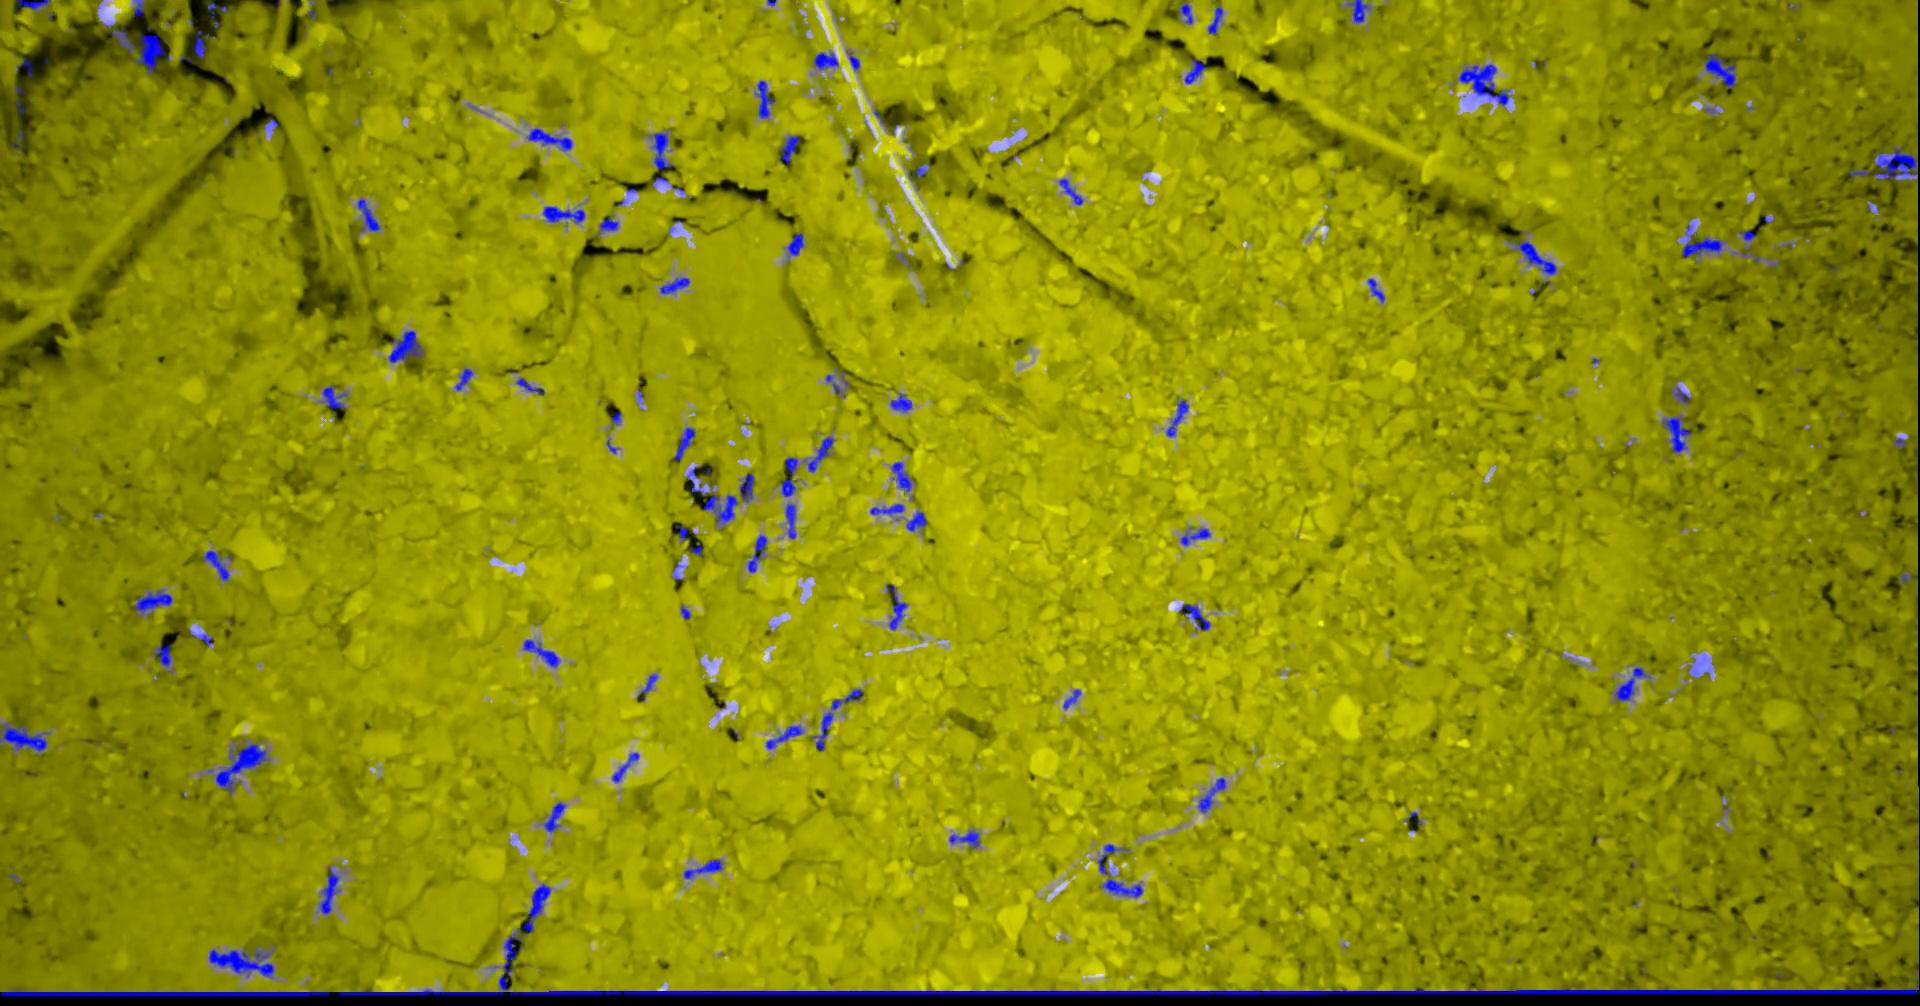ant: (811, 688, 862, 749), (684, 466, 737, 525), (215, 743, 267, 793), (1458, 64, 1509, 105), (208, 949, 274, 977), (1873, 147, 1919, 180), (133, 27, 165, 74), (1515, 240, 1556, 274), (1681, 224, 1723, 257), (0, 723, 50, 751), (1614, 667, 1650, 700), (389, 330, 423, 362), (1704, 53, 1735, 89), (1662, 417, 1691, 452), (317, 868, 339, 915), (806, 436, 834, 471), (523, 639, 559, 667), (526, 128, 571, 150), (1197, 777, 1225, 812), (886, 583, 907, 629), (133, 589, 171, 614), (764, 725, 803, 749), (1166, 398, 1189, 437), (649, 132, 673, 169), (105, 24, 135, 53), (611, 752, 639, 782), (1178, 603, 1210, 630), (202, 550, 229, 580), (356, 198, 380, 231), (683, 859, 723, 878), (1102, 878, 1142, 897), (673, 427, 695, 461), (1097, 843, 1121, 874), (756, 80, 775, 118), (747, 535, 766, 572), (542, 206, 584, 222), (780, 457, 797, 495), (1058, 178, 1082, 205), (193, 29, 215, 58), (543, 801, 565, 831), (778, 135, 799, 164), (891, 461, 910, 492), (1180, 526, 1210, 545), (949, 829, 979, 848), (1183, 58, 1206, 83), (323, 385, 347, 408), (206, 3, 227, 28), (1346, 0, 1369, 23), (636, 673, 657, 699), (659, 277, 690, 293), (516, 377, 543, 395), (813, 51, 838, 69), (1208, 4, 1222, 34), (905, 511, 926, 531), (739, 473, 753, 502), (783, 503, 795, 539), (1368, 278, 1384, 302), (869, 503, 903, 514), (890, 392, 910, 412), (455, 368, 472, 390), (152, 644, 170, 666), (786, 232, 803, 255), (17, 0, 50, 10), (598, 217, 618, 234), (1063, 688, 1079, 709), (1177, 3, 1192, 23), (1672, 387, 1690, 403), (17, 57, 30, 75), (1738, 230, 1755, 241), (1848, 168, 1868, 177), (677, 525, 688, 540), (133, 0, 143, 17), (848, 53, 858, 70), (610, 412, 620, 426), (1893, 437, 1905, 448)
